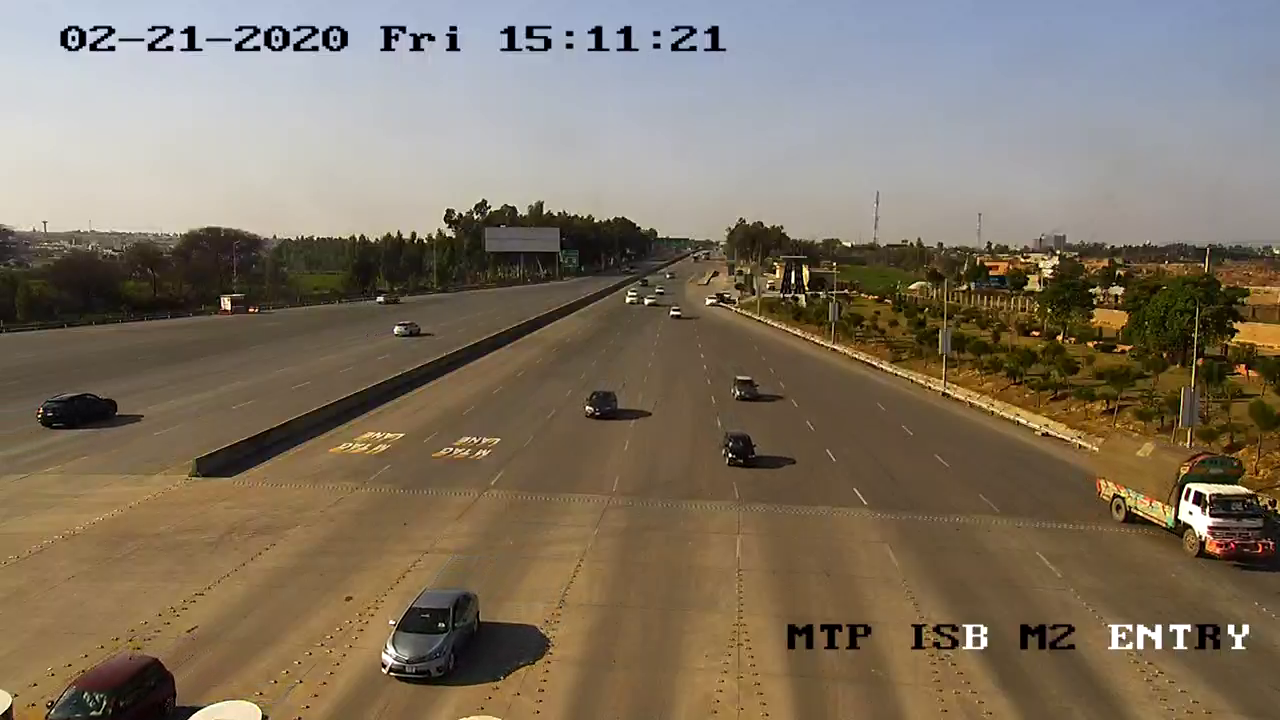f1: (375, 579, 491, 693), (714, 426, 766, 476), (576, 386, 629, 426)
f5: (1090, 423, 1275, 573)
